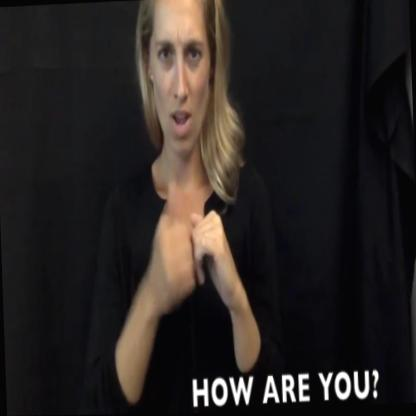HowAreYou: (125, 180, 255, 328)
